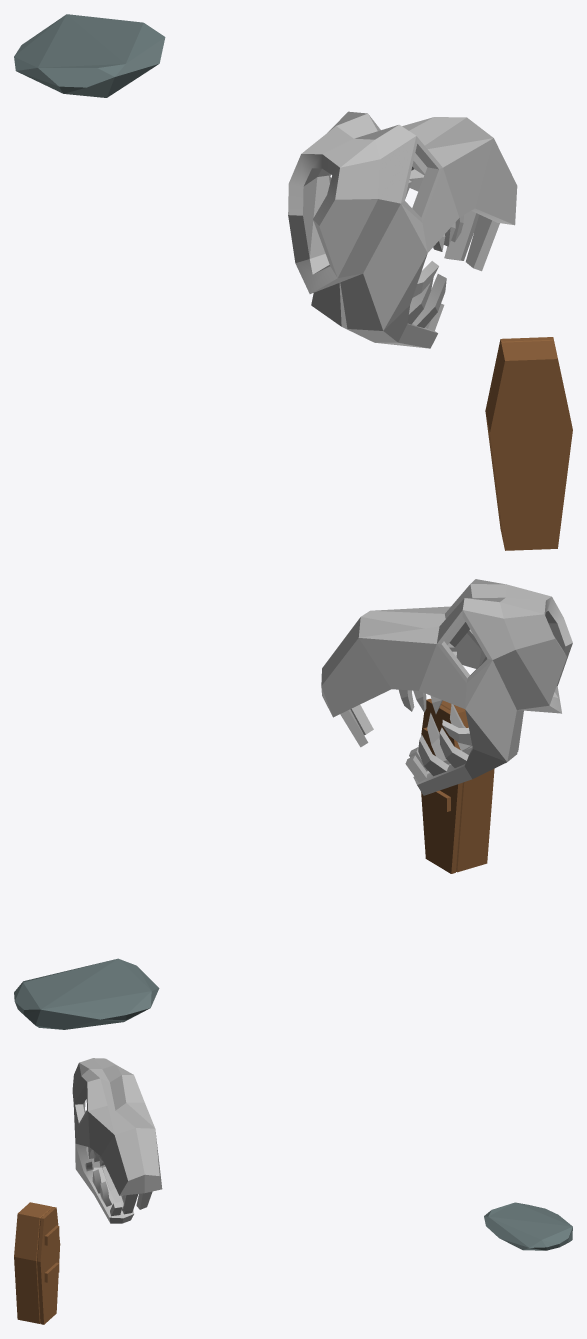
3 renders of one model, top to bottom at view 1: azimuth 30°, elevation 25°; view 2: azimuth 150°, elevation 25°; view 3: azimuth 270°, elevation 25°, orthographic. The views are drawn at different scales.
Parts seen in each view (by area): view 1: Object121_grey_0, Box809_brown_0, Box890_rock_0, Box286_grey_0, Box287_grey_0; view 2: Object121_grey_0, Box890_rock_0, Box809_brown_0, Box286_grey_0, Box287_grey_0; view 3: Object121_grey_0, Box809_brown_0, Box890_rock_0, Box286_grey_0, Box287_grey_0.
Boxes of the visible parts, x1,y1,x2,y2 form: Object121_grey_0: (288,111,517,348); Box809_brown_0: (485,337,572,550); Box890_rock_0: (14,14,165,97); Box286_grey_0: (405,180,463,331); Box287_grey_0: (444,211,499,271); Object121_grey_0: (321,579,572,795); Box890_rock_0: (14,958,159,1029); Box809_brown_0: (421,698,494,873); Box286_grey_0: (399,651,472,782); Box287_grey_0: (340,704,373,747); Object121_grey_0: (72,1058,162,1223); Box809_brown_0: (14,1202,60,1324); Box890_rock_0: (484,1202,572,1250); Box286_grey_0: (84,1147,132,1216); Box287_grey_0: (123,1191,152,1210).
Size of the model in its own units: 269 by 381 by 884.
